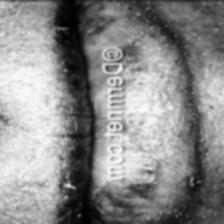Potentially Malignant Skin Tumors: (122, 41, 164, 191)
